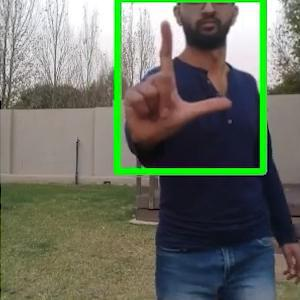land_hand: (125, 22, 231, 146)
